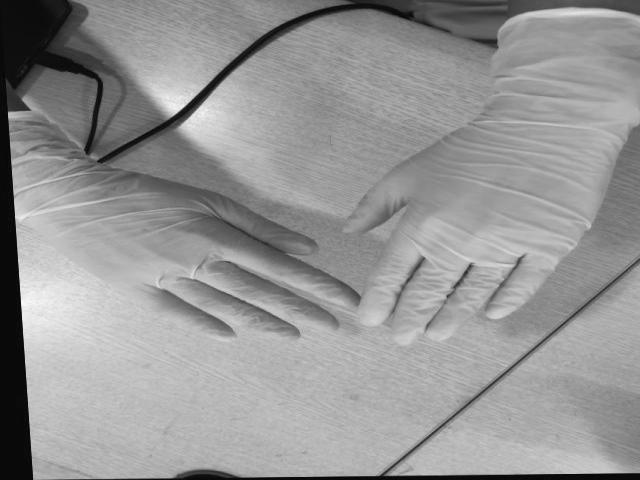gloved: (350, 101, 628, 341), (73, 170, 354, 342)
